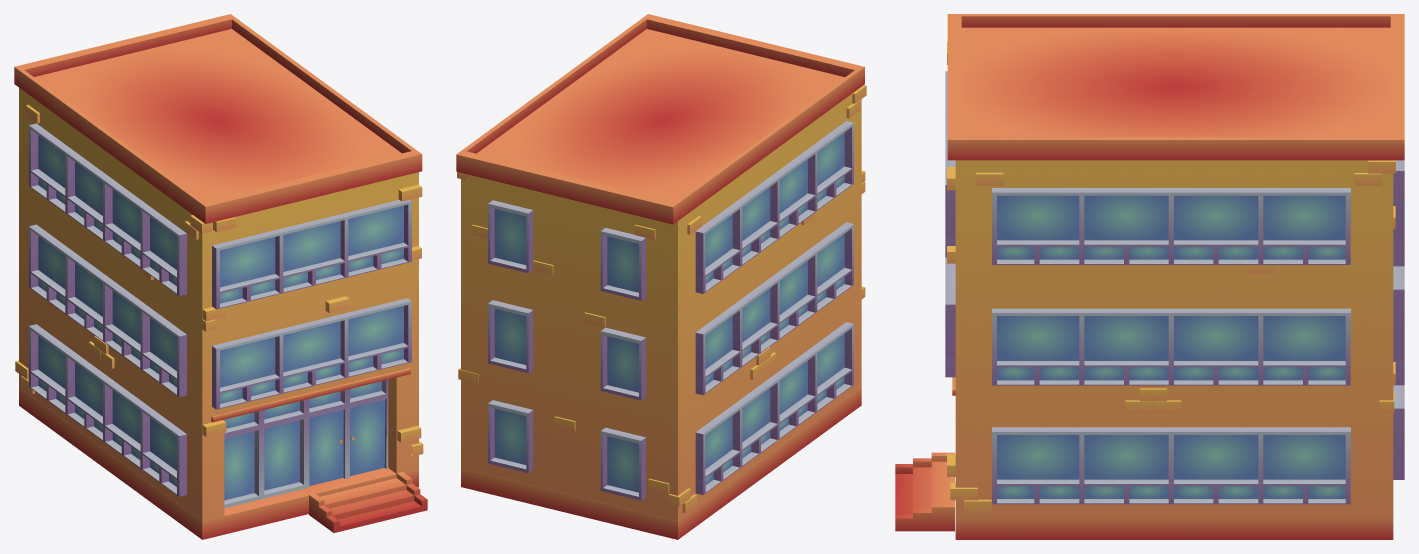
File: SM_3F_R_Windowed_03.fbx
3 views of the same model, side by side, from view 1: azimuth 30°, elevation 25°; view 2: azimuth 150°, elevation 25°; view 3: azimuth 270°, elevation 25° (orthographic). The views are drawn at different scales.
Parts seen in each view (by area): view 1: SM_3F_R_Windowed_03; view 2: SM_3F_R_Windowed_03; view 3: SM_3F_R_Windowed_03.
Part boxes in pixels (x1=…): SM_3F_R_Windowed_03: x1=14, y1=14, x2=427, y2=539; SM_3F_R_Windowed_03: x1=456, y1=14, x2=866, y2=539; SM_3F_R_Windowed_03: x1=895, y1=14, x2=1404, y2=539.
Bounding box in the file's own units: 7.96 × 12.7 × 11.02.
